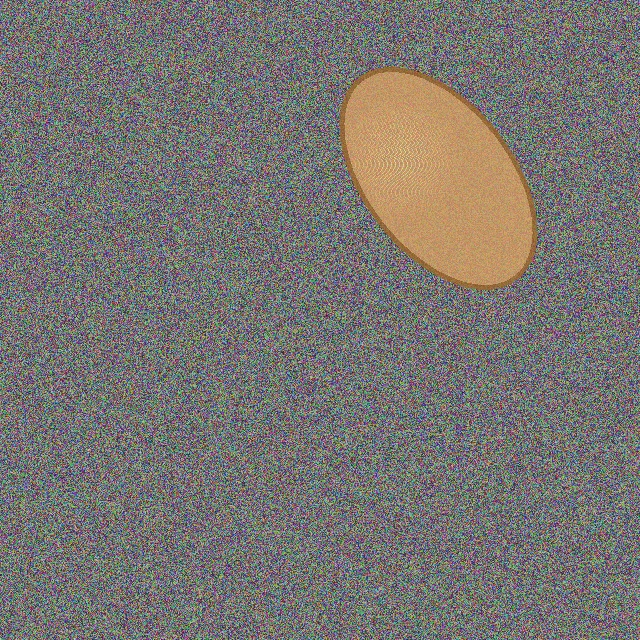lens: (342, 70, 534, 286)
